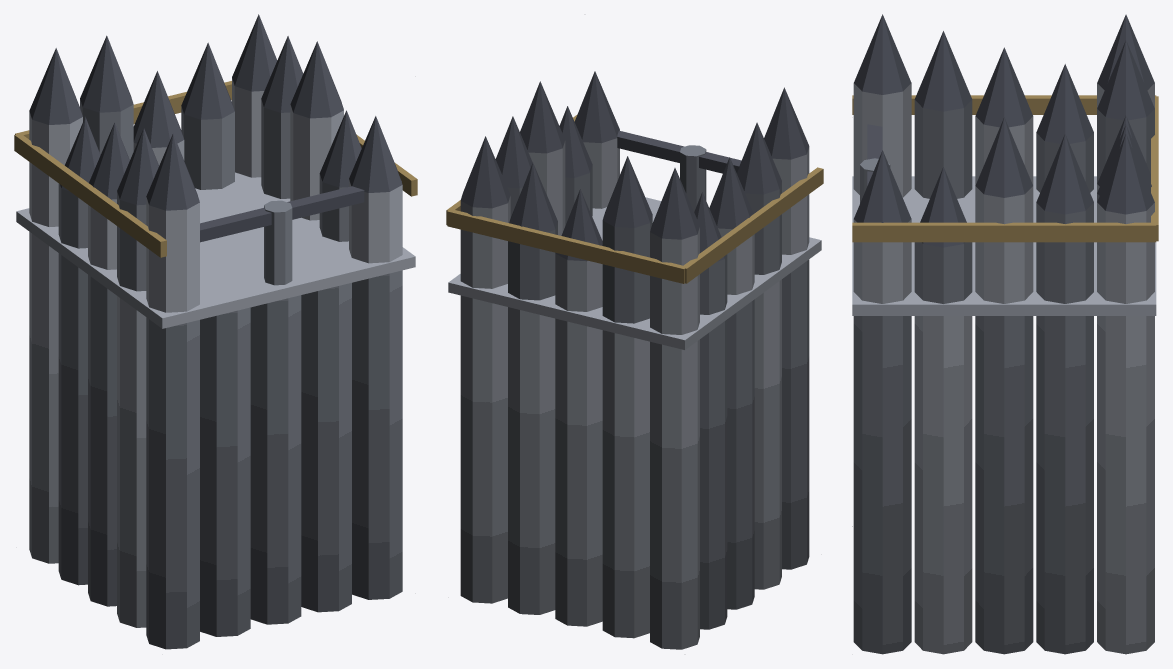
File: perimeter_wall_metal_f0.glb
3 renders of one model, left to right at view 1: azimuth 30°, elevation 25°; view 2: azimuth 150°, elevation 25°; view 3: azimuth 270°, elevation 25°, orthographic. The views are drawn at different scales.
Size of the model in its own units: 2.03 by 3.9 by 2.01.
1 material, 1 textured.
